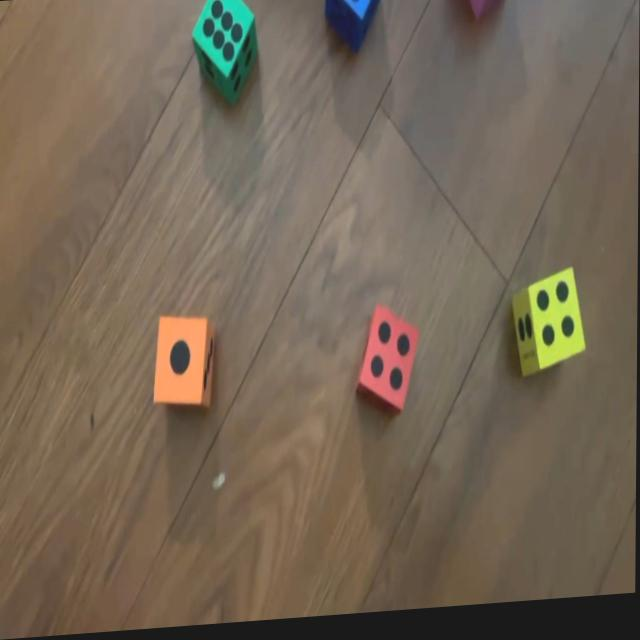cube: (356, 309, 421, 424), (191, 0, 258, 108), (324, 0, 384, 55)
